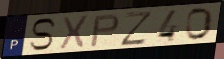4: (154, 9, 180, 43)
O: (184, 6, 215, 42)
P: (89, 13, 121, 48)
S: (28, 17, 58, 52)
X: (58, 14, 91, 51)
Z: (119, 9, 155, 47)
